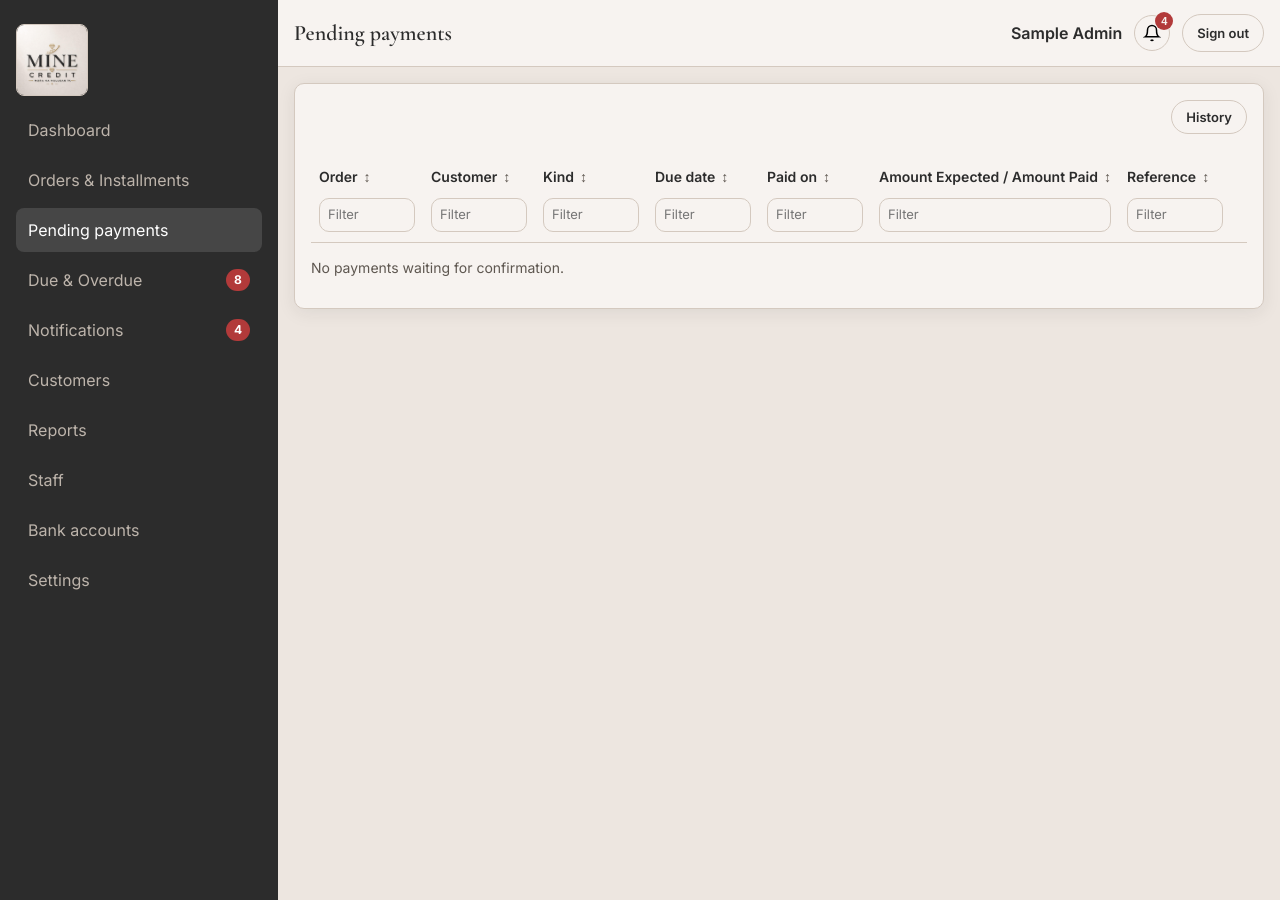
Test: PendingPayments › opens the payment history modal from the History button
This screenshot has width=1280, height=900.
Click the button "History". click: point(1209, 117)
box: 1171,100 -> 1247,134
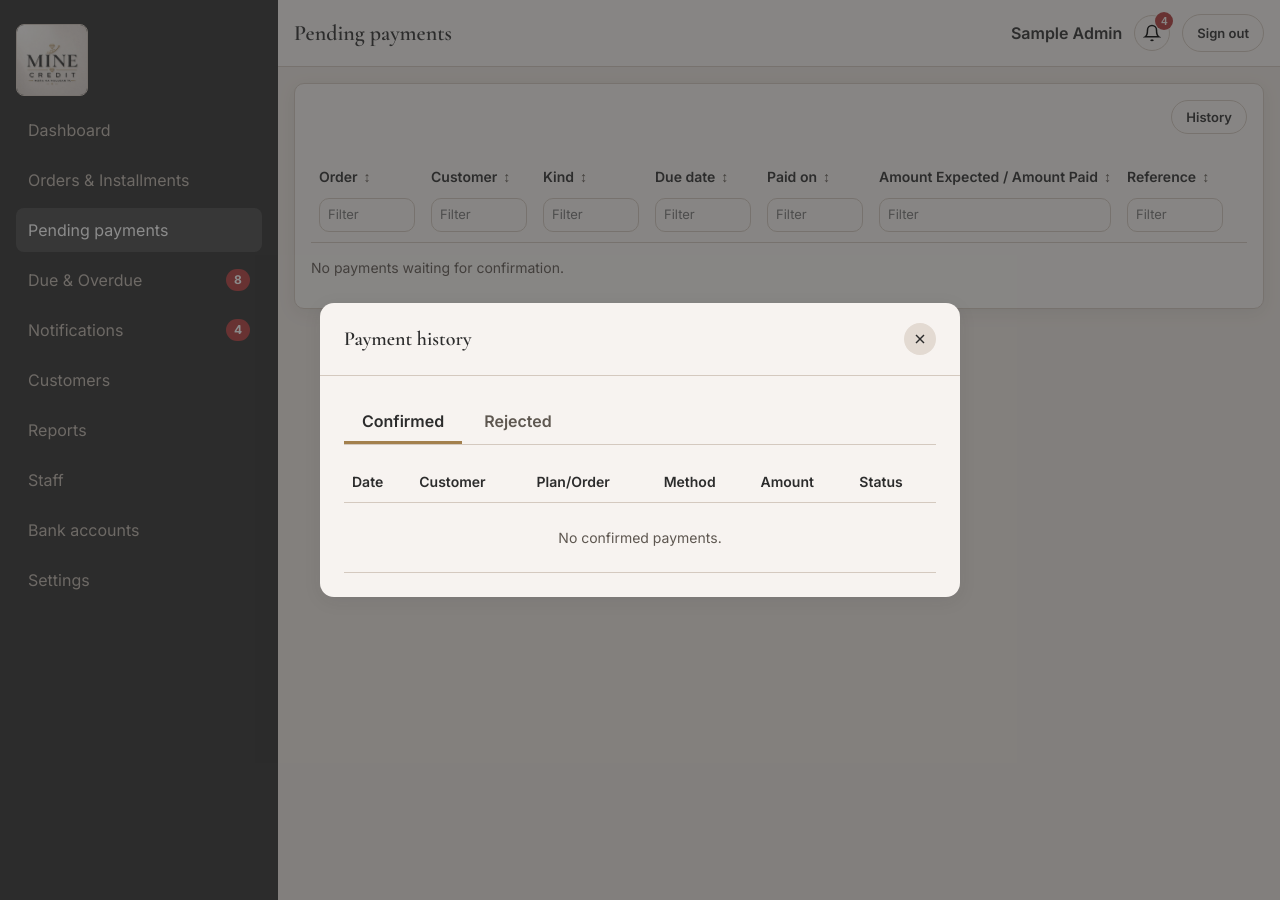
Result: the dialog "Payment history" is shown at 320,303 -> 960,597
Result: the text "No confirmed payments." is shown at 344,502 -> 936,572
